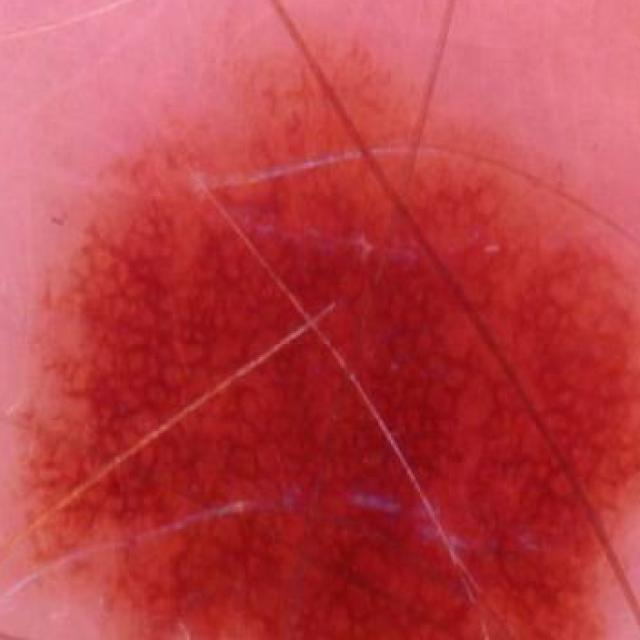NV: (43, 89, 640, 640)
